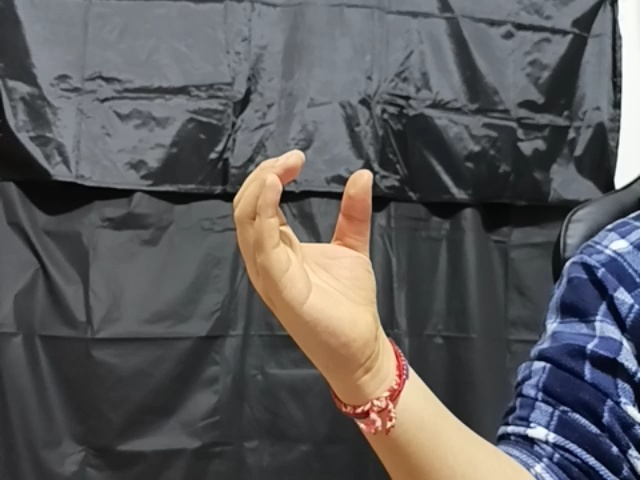C: (231, 147, 398, 375)
